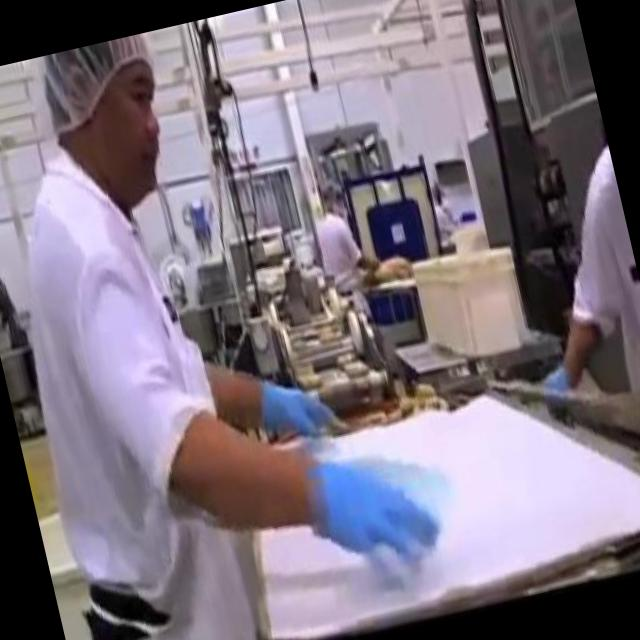hairnet: (39, 32, 158, 109), (319, 177, 341, 203)
